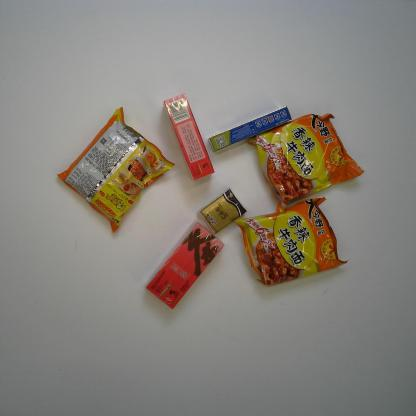Instant Drink: (144, 221, 226, 310), (162, 92, 216, 182)
Instant Noodles: (56, 106, 176, 233), (247, 112, 365, 214), (232, 196, 350, 286)
Personal Hygiene: (207, 105, 293, 153)
Tissue: (197, 188, 248, 235)
